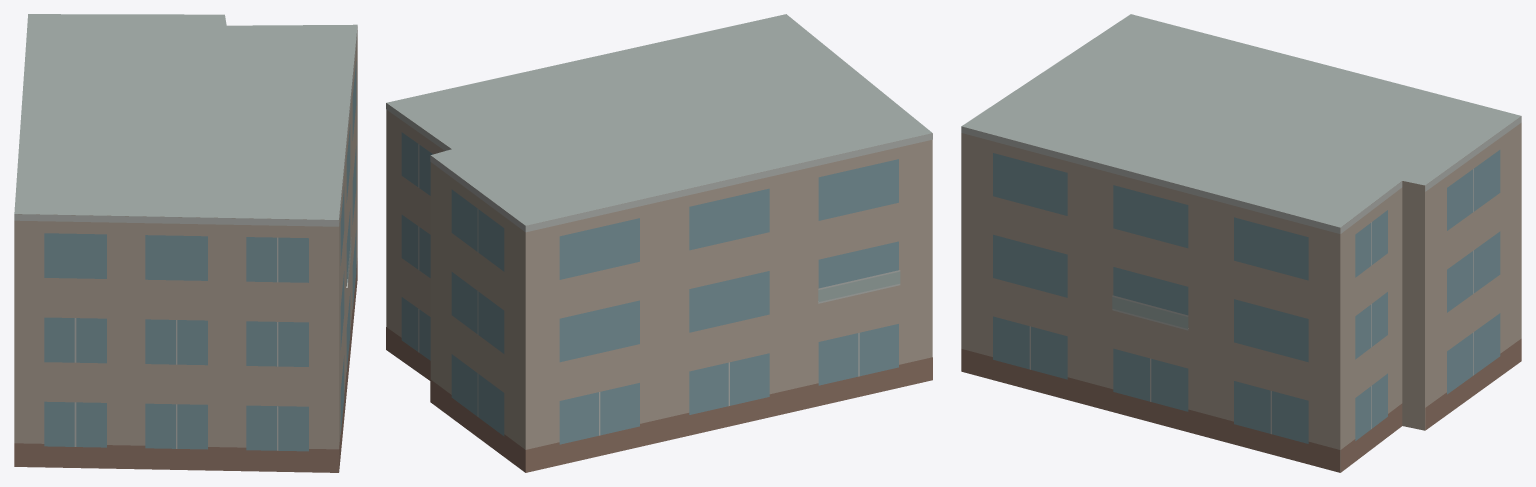
The model's file is survey-upis-32527886.glb.
The picture shows the model from 3 angles, left to right: view 1: azimuth 30°, elevation 25°; view 2: azimuth 150°, elevation 25°; view 3: azimuth 270°, elevation 25°; orthographic projection. The views are drawn at different scales.
Parts seen in each view (by area): view 1: survey-upis-32527886.tmp; view 2: survey-upis-32527886.tmp; view 3: survey-upis-32527886.tmp.
Part boxes in pixels (x1=…): survey-upis-32527886.tmp: x1=14, y1=14, x2=357, y2=472; survey-upis-32527886.tmp: x1=386, y1=14, x2=932, y2=472; survey-upis-32527886.tmp: x1=961, y1=14, x2=1521, y2=472.
Size of the model in its own units: 17.1 by 9.15 by 18.96.
